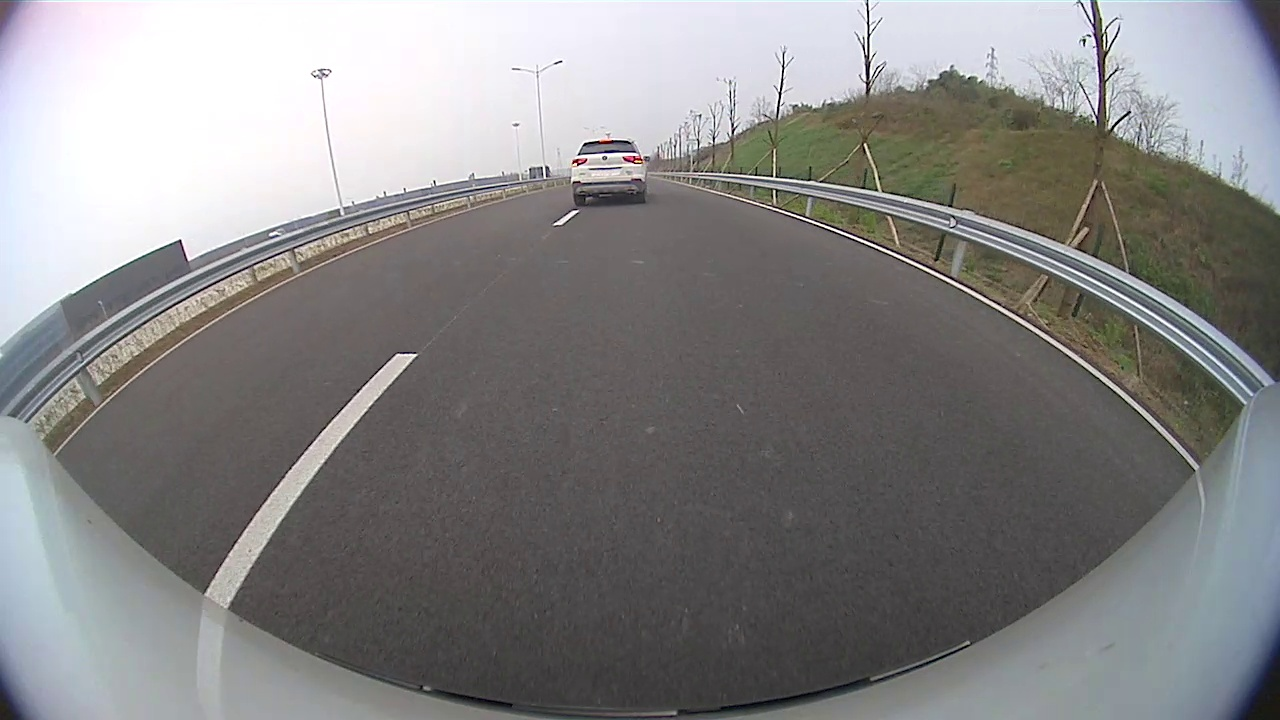car: (568, 136, 649, 207)
